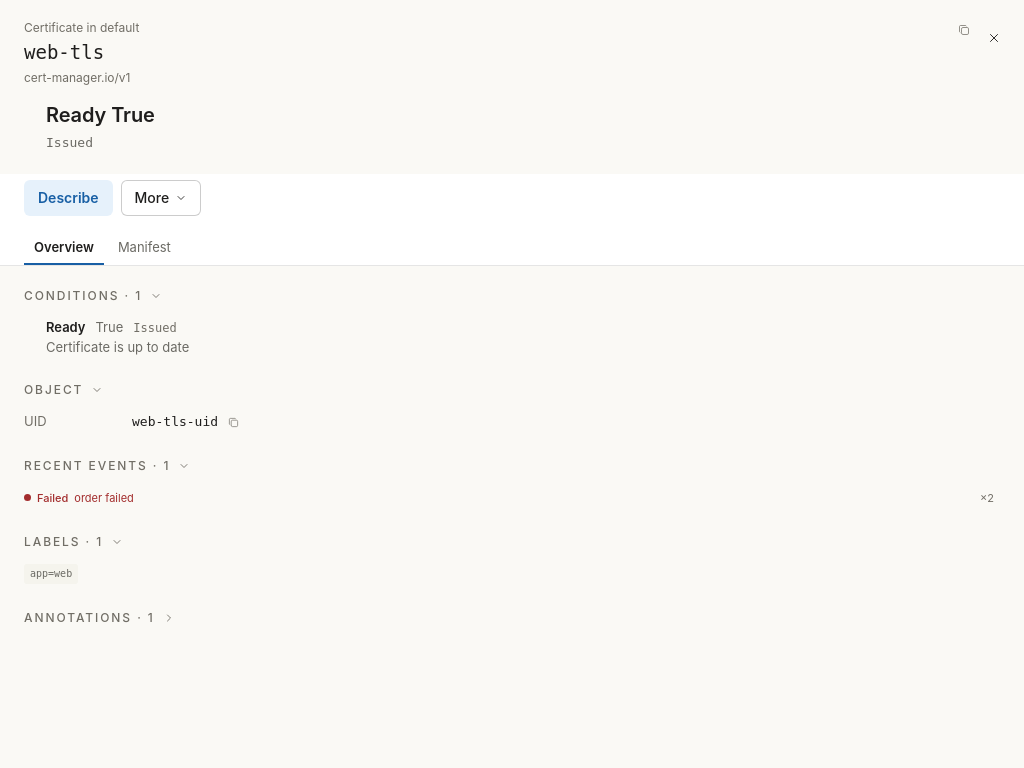
Test case: InstanceDetail › renders header, conditions, events, and YAML
Expected: the text "Certificate in default" is shown, [24,20,139,35]
Expected: the text "app=web" is shown, [24,564,78,584]
Click the tab "Manifest" at (144, 247), box [108,229,181,265]
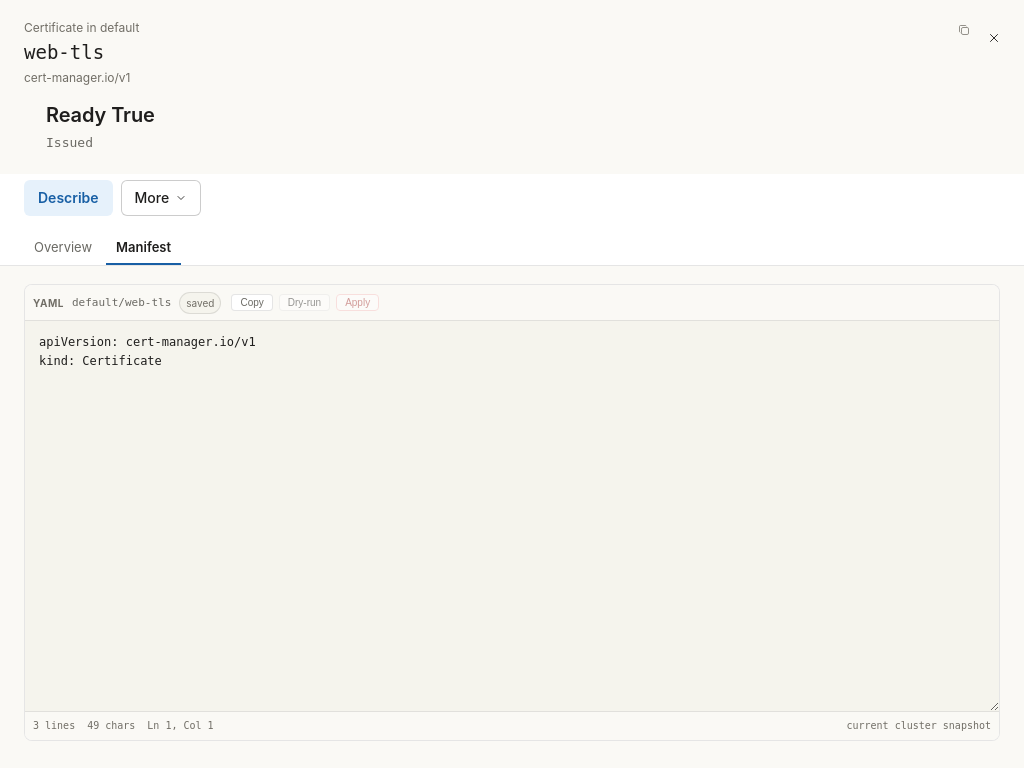
Expected: the text box "kind: Certificate" is shown, [25,321,999,711]
